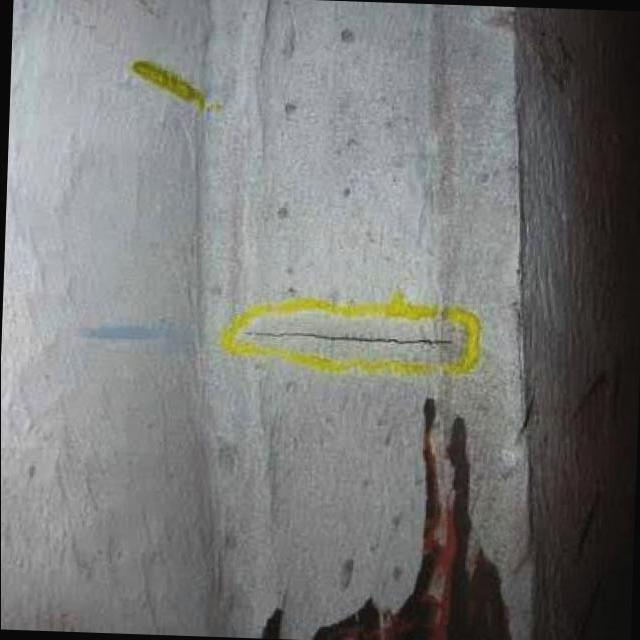defect: (238, 326, 456, 351)
